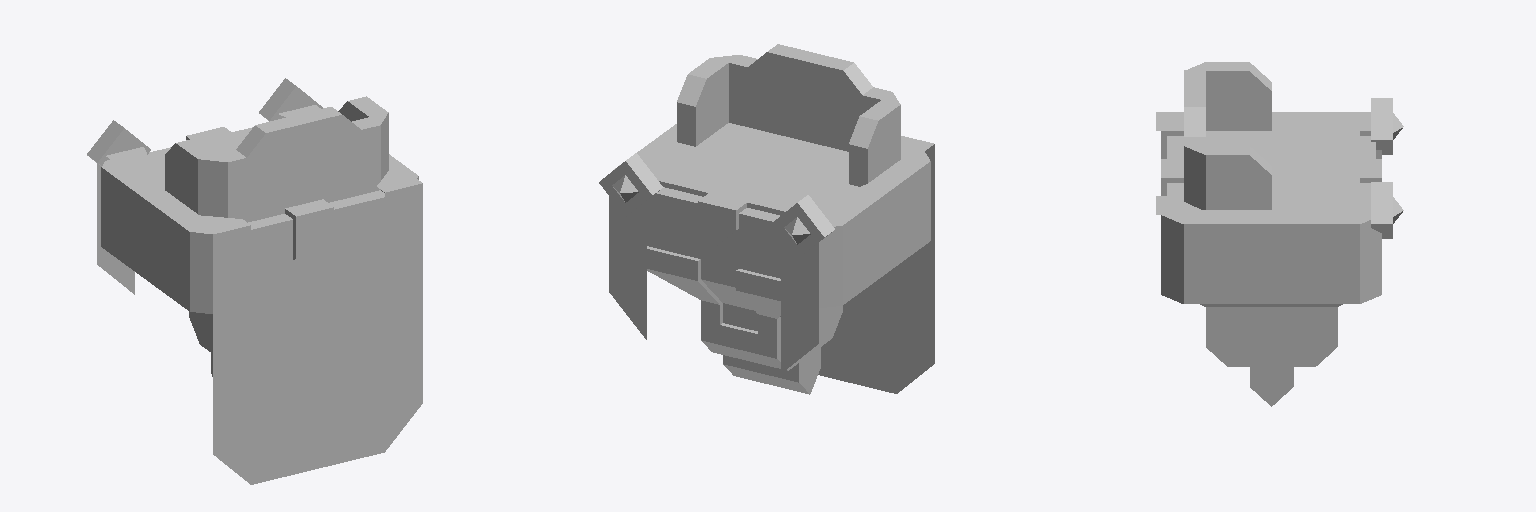
Rendered from torso_reinforced.obj.
3 views of the same model, side by side, from view 1: azimuth 30°, elevation 25°; view 2: azimuth 150°, elevation 25°; view 3: azimuth 270°, elevation 25° (orthographic).
Parts seen in each view (by area): view 1: TORSO_DECO_GOLD_REINFORCED_Cube.215, TORSO_REINFORCED_Cube.003; view 2: TORSO_REINFORCED_Cube.003, TORSO_DECO_GOLD_REINFORCED_Cube.215; view 3: TORSO_REINFORCED_Cube.003, TORSO_DECO_GOLD_REINFORCED_Cube.215.
Part boxes in pixels (bbox=[...]): TORSO_DECO_GOLD_REINFORCED_Cube.215: bbox=[87, 78, 422, 484]; TORSO_REINFORCED_Cube.003: bbox=[101, 96, 418, 376]; TORSO_REINFORCED_Cube.003: bbox=[614, 44, 930, 394]; TORSO_DECO_GOLD_REINFORCED_Cube.215: bbox=[599, 128, 934, 393]; TORSO_REINFORCED_Cube.003: bbox=[1161, 62, 1381, 406]; TORSO_DECO_GOLD_REINFORCED_Cube.215: bbox=[1156, 98, 1403, 238].
Bounding box in the file's own units: 0.75 × 1.05 × 0.7031.